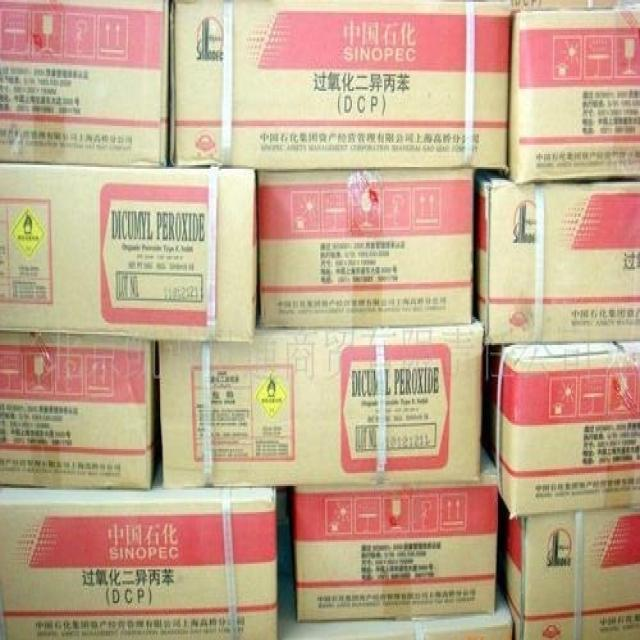box: (169, 0, 512, 168), (160, 314, 483, 488), (0, 454, 278, 638), (0, 164, 257, 342), (289, 440, 498, 621), (258, 168, 474, 326), (472, 168, 639, 345), (277, 520, 514, 638), (482, 341, 640, 517), (0, 1, 169, 165), (485, 4, 639, 183), (0, 331, 162, 488), (496, 491, 639, 638)
